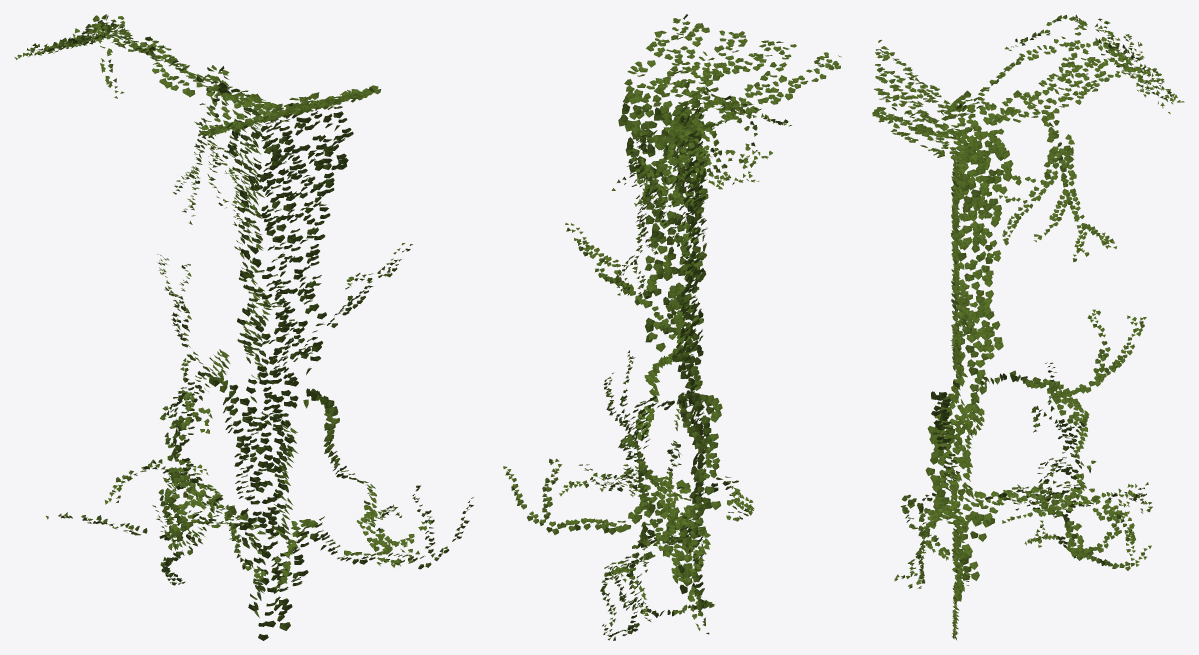
Rendered from sponza_ivy.gltf.
3 renders of one model, left to right at view 1: azimuth 30°, elevation 25°; view 2: azimuth 150°, elevation 25°; view 3: azimuth 270°, elevation 25°, orthographic. The views are drawn at different scales.
Visible parts, largest first — view 1: IvySim_Leaves; view 2: IvySim_Leaves; view 3: IvySim_Leaves.
Part boxes in pixels (box(x1,y1,x2,y2)): IvySim_Leaves: box(14, 14, 473, 640); IvySim_Leaves: box(503, 14, 841, 640); IvySim_Leaves: box(872, 14, 1184, 639).
Bounding box in the file's own units: 9.17 × 14.38 × 7.55.
1 material, 1 textured.
